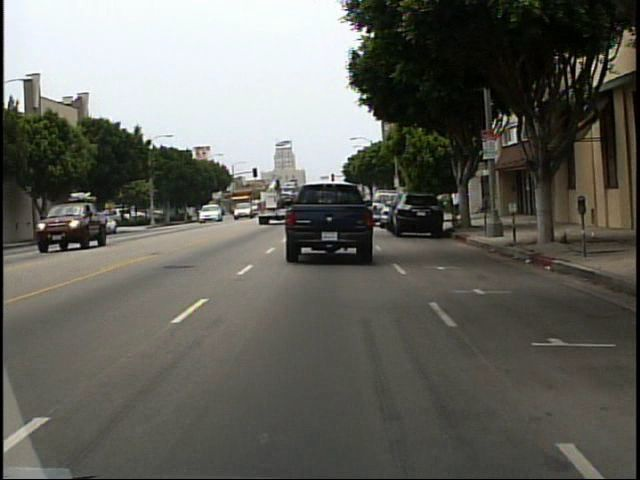person: (451, 187, 462, 221)
